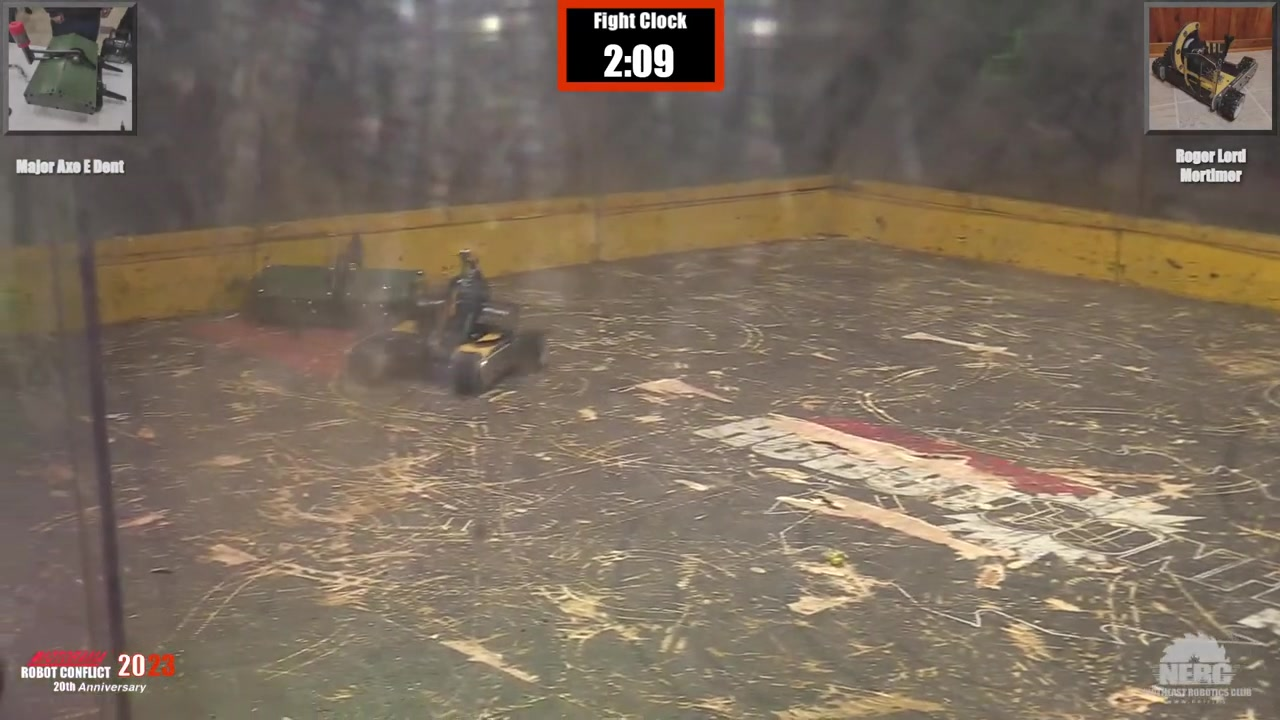combatbot: (348, 323, 534, 394), (246, 266, 428, 320)
